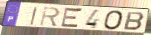4: (83, 9, 101, 30)
B: (123, 11, 146, 32)
E: (59, 7, 84, 30)
I: (29, 6, 40, 26)
O: (103, 10, 125, 31)
R: (39, 7, 62, 28)
